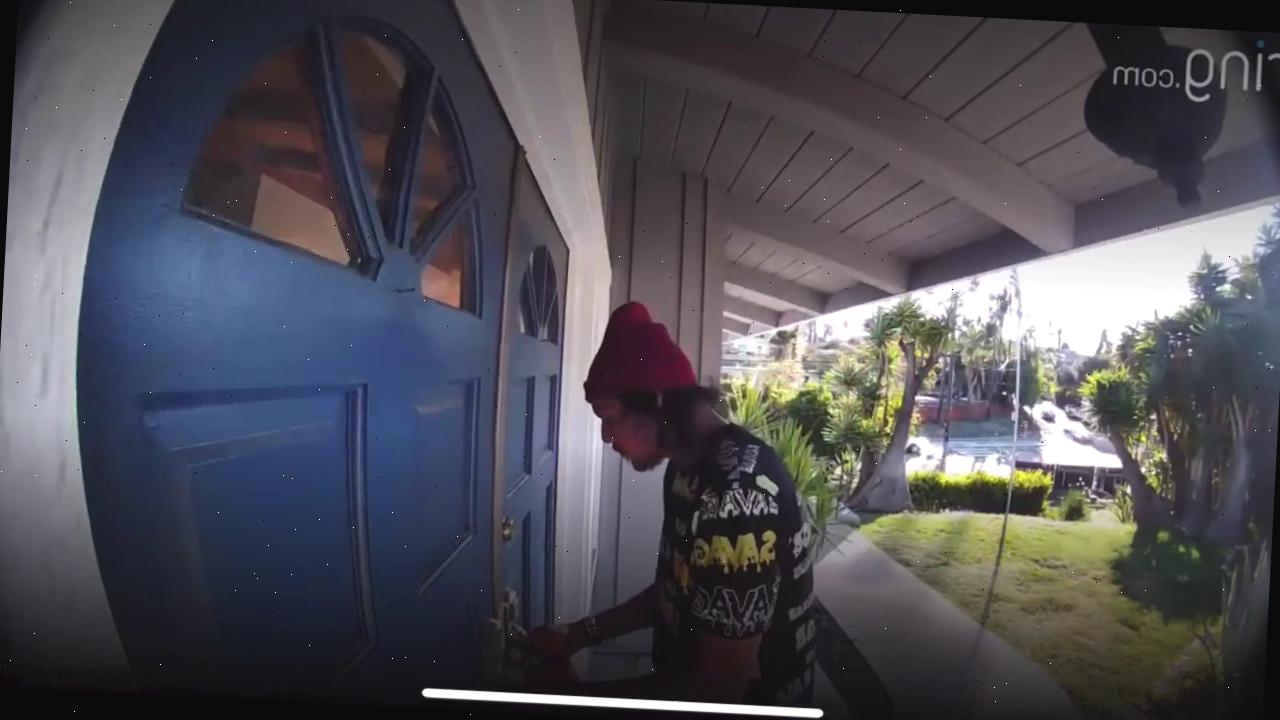suspicion: (477, 238, 823, 720)
